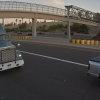Bridge: (0, 0, 94, 40)
